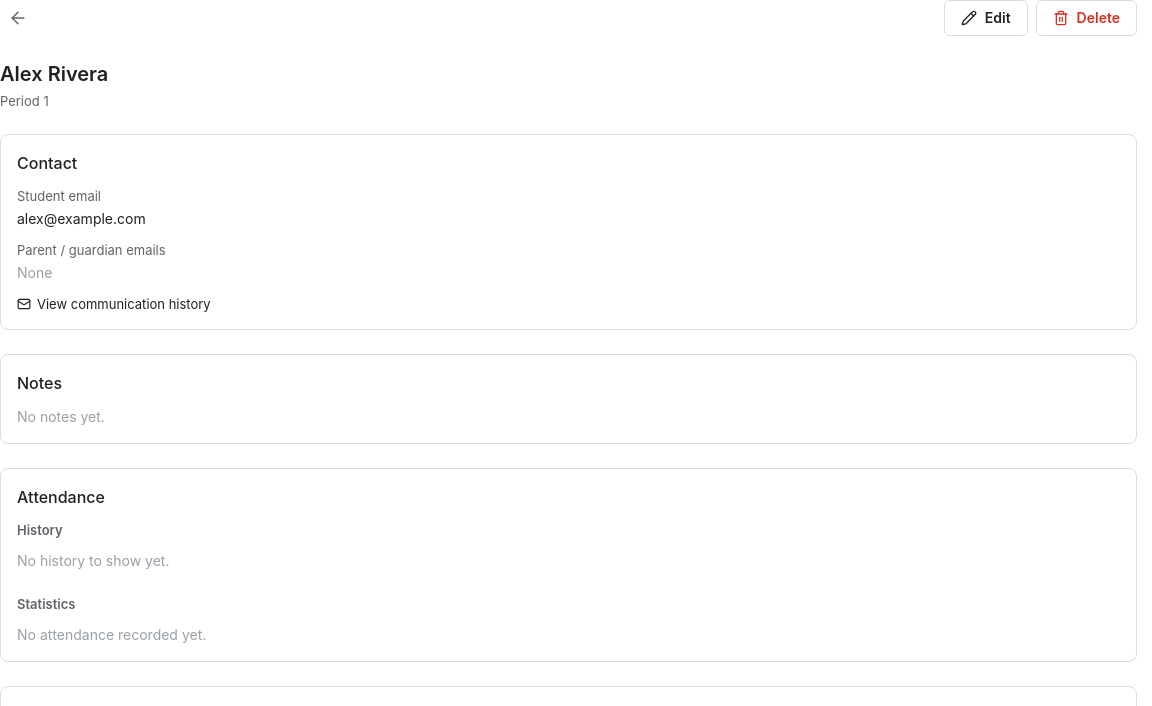
Scenario: StudentsPage edit form › disables saving while a required field is empty
Step 1. Click the button "Edit" → (986, 18), box [944,0,1028,36]
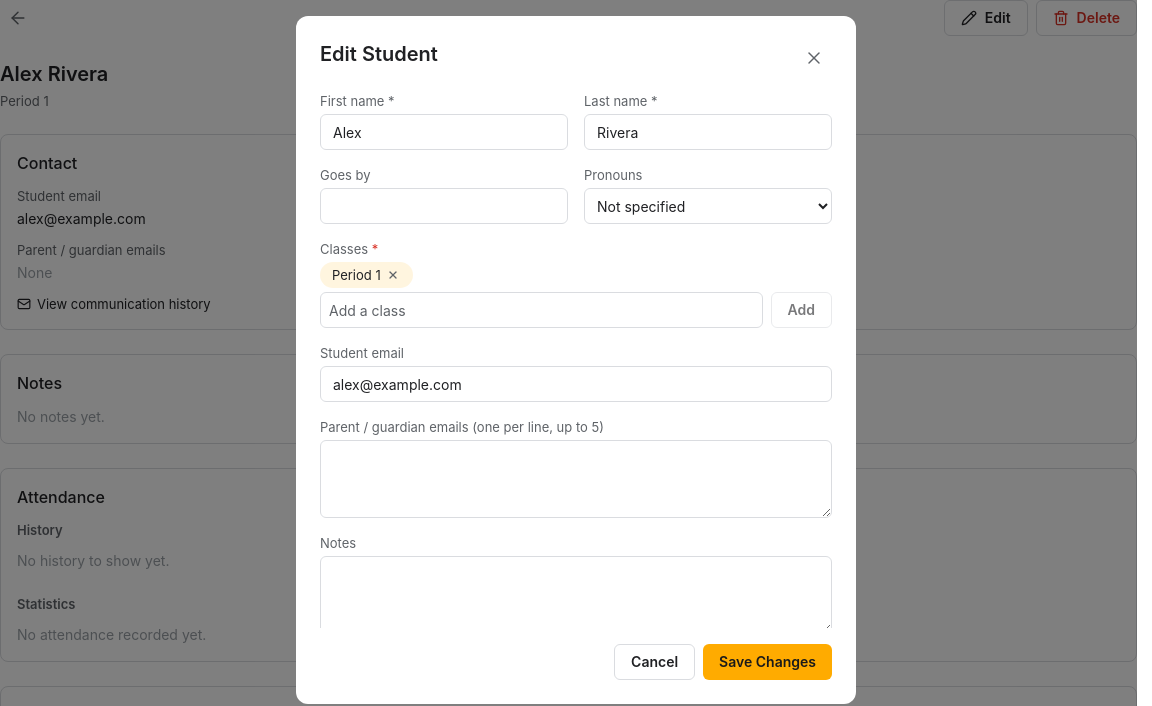
Now the button "Save Changes" is enabled, box [703,644,832,680]
Step 2. Clear the field labelled "First name *" → (444, 132), box [320,114,568,150]
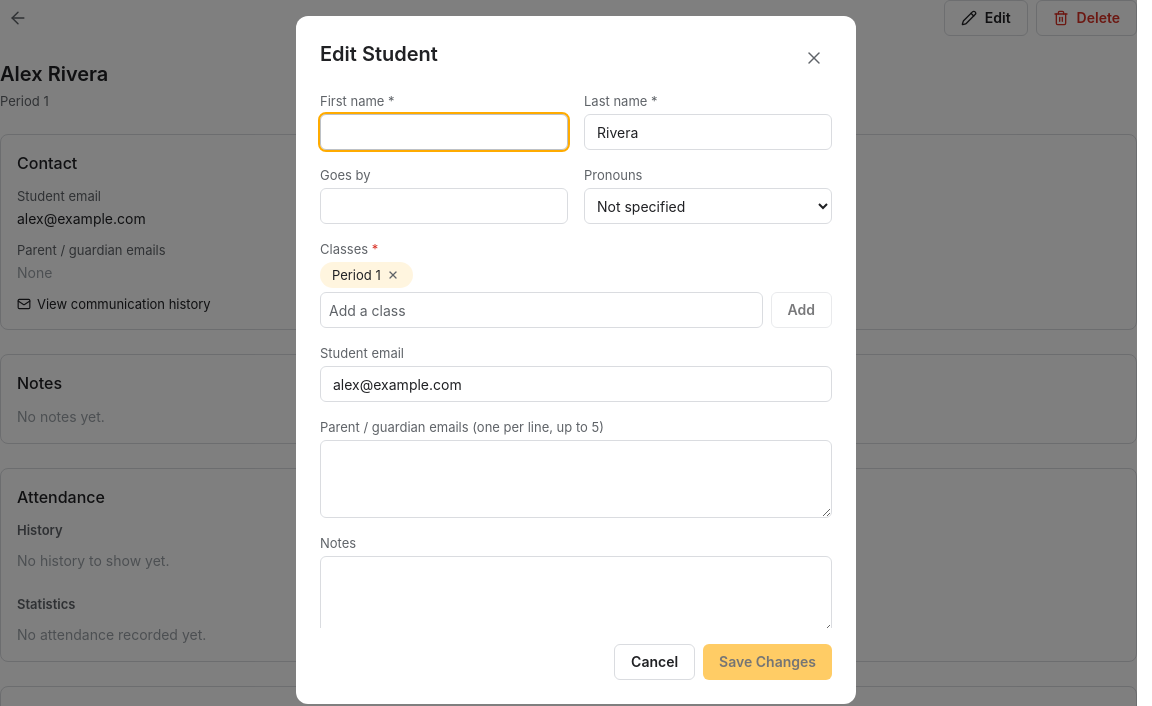
Now the button "Save Changes" is disabled, box [703,644,832,680]
Step 3. Type "Jordan" into the field labelled "First name *" → (444, 132), box [320,114,568,150]
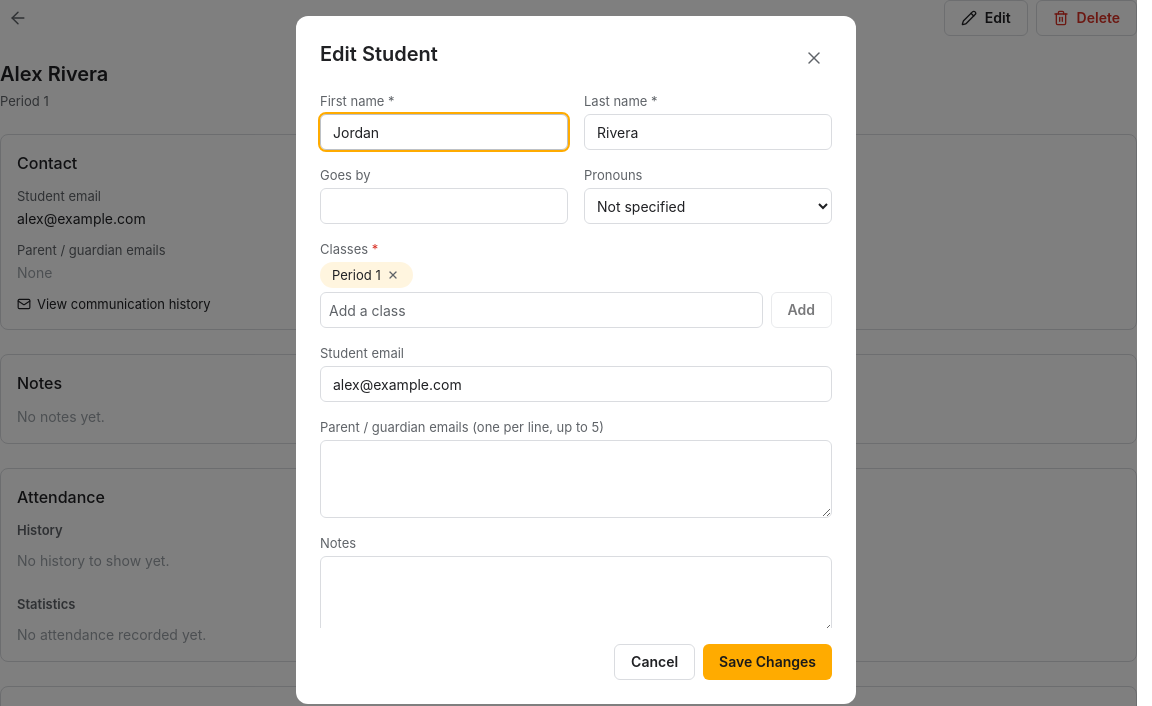
Now the button "Save Changes" is enabled, box [703,644,832,680]
Step 4. Click the button named "Remove Period 1" → (393, 275), box [385,267,401,283]
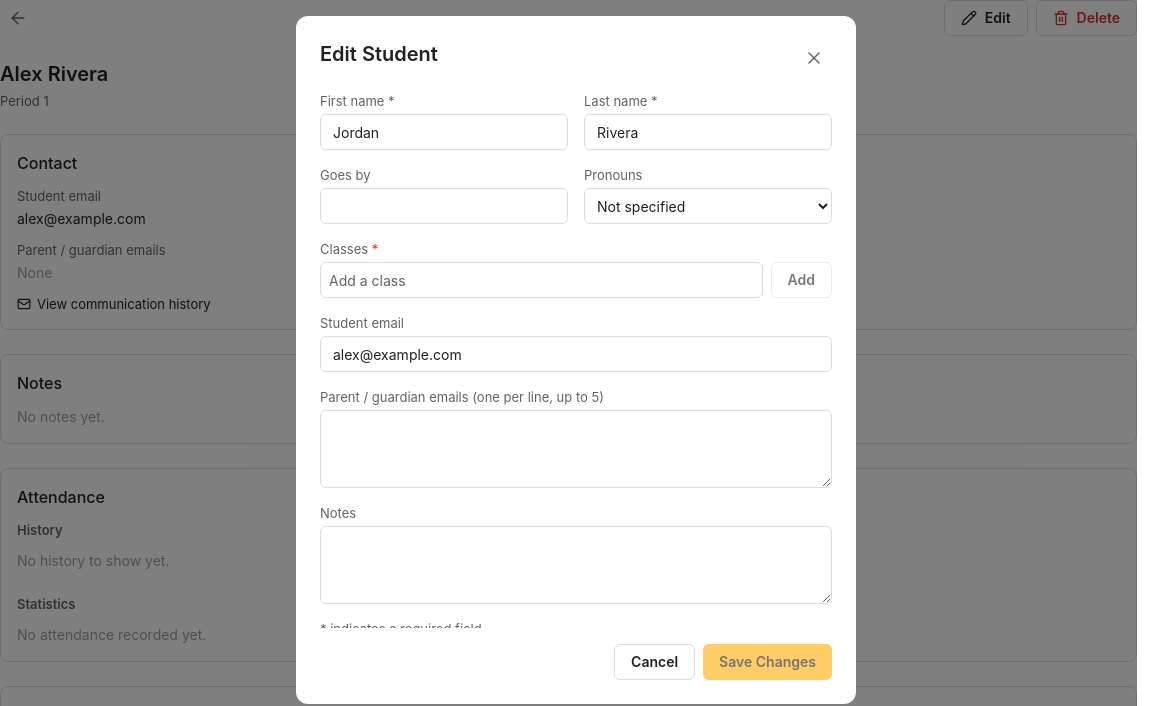
Now the button "Save Changes" is disabled, box [703,644,832,680]
